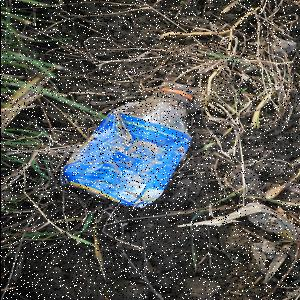Plastic-bottle: (62, 82, 198, 210)
